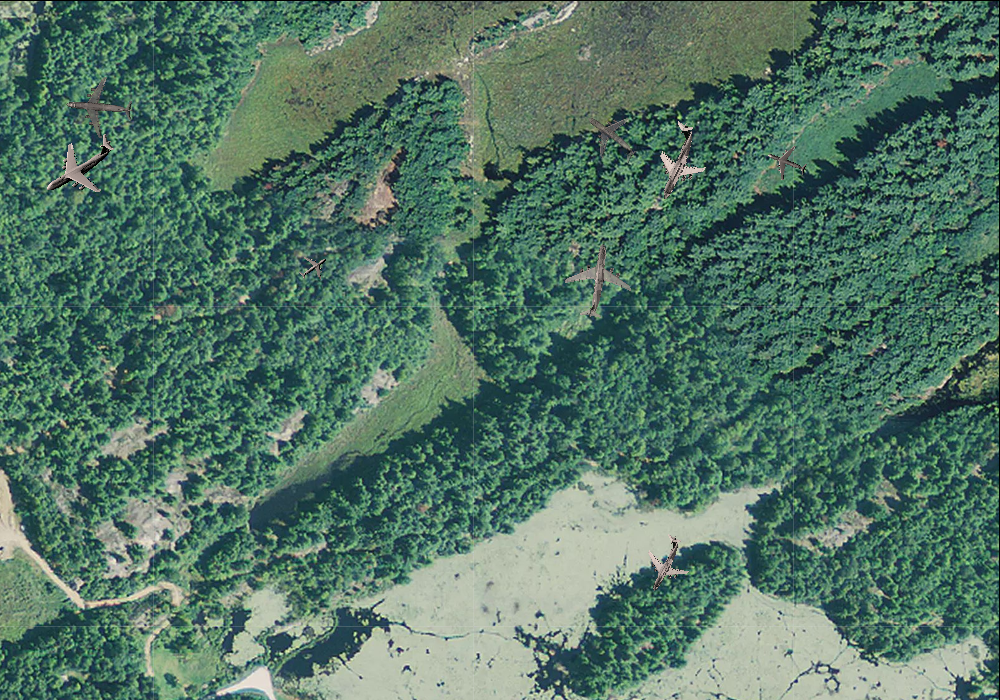plane: (26, 114, 131, 216), (631, 111, 722, 209), (556, 239, 637, 322), (570, 97, 652, 177), (628, 525, 702, 602), (63, 73, 135, 141), (761, 137, 813, 187), (293, 247, 333, 287)
